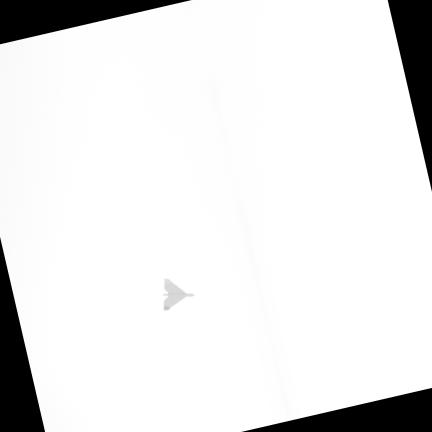Shahed: (163, 280, 193, 310)
